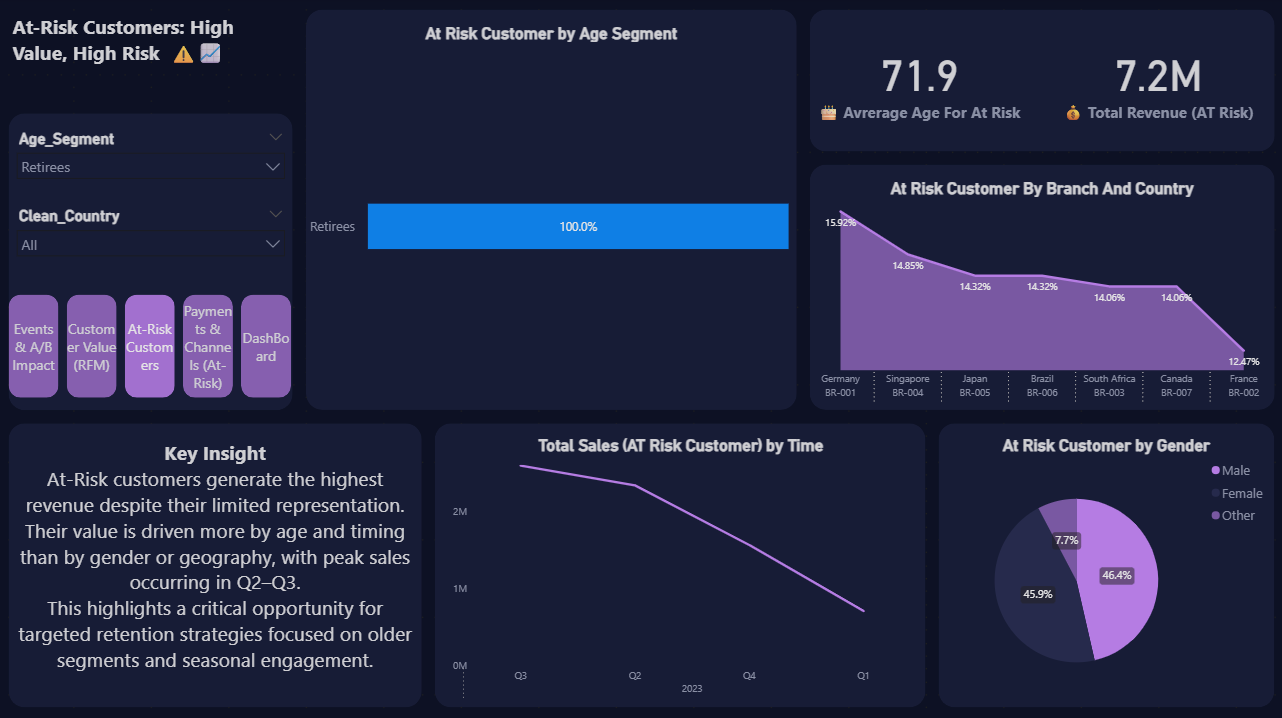

The page's visual inventory and layout, read from the dashboard file:
{"tool":"powerbi","page":{"name":"At-Risk Customers","canvas":[1600,900],"ordinal":2},"visuals":[{"type":"shape","box":[16,528,512,352],"z":0},{"type":"shape","box":[544,528,608,352],"z":1000},{"type":"shape","box":[1008,208,576,304],"z":2000},{"type":"shape","box":[384,16,608,496],"z":3000},{"type":"shape","box":[1168,528,416,352],"z":4000},{"type":"shape","box":[1008,16,576,176],"z":5000},{"type":"pieChart","fields":{"Category":["arpand_ecommerce_dataset.Gender"],"Y":["Measure Table.At Risk Customer"]},"box":[1168,544,416,336],"z":6000},{"type":"areaChart","title":"At Risk Customer By Branch And Country","fields":{"Category":["arpand_ecommerce_dataset.BranchID","arpand_ecommerce_dataset.Clean_Country"],"Y":["Divide(Measure Table.At Risk Customer, ScopedEval(Measure Table.At Risk Customer, []))"]},"box":[1008,224,576,288],"z":7000},{"type":"card","fields":{"Values":["Measure Table.Avg Age For At Risk"]},"box":[1008,16,272,176],"z":8000},{"type":"lineChart","title":"Total Sales (AT Risk Customer) by Time","fields":{"Y":["Measure Table.Sum Sales (AT Risk Customer)"],"Category":["Date Table.Year Hierarchy.Year","Date Table.Year Hierarchy.Quarter","Date Table.Year Hierarchy.Month","Date Table.Year Hierarchy.Day"]},"box":[560,544,576,336],"z":9000},{"type":"card","fields":{"Values":["Measure Table.Sum Sales (AT Risk Customer)"]},"box":[1296,16,288,176],"z":10000},{"type":"funnel","title":"At Risk Customer by Age Segment","fields":{"Category":["arpand_ecommerce_dataset.Age_Segment"],"Y":["Divide(Measure Table.At Risk Customer, ScopedEval(Measure Table.At Risk Customer, []))"]},"box":[384,32,608,480],"z":11000},{"type":"textbox","box":[16,544,512,336],"z":12000},{"type":"shape","box":[16,144,352,368],"z":13000},{"type":"slicer","fields":{"Values":["arpand_ecommerce_dataset.Age_Segment"]},"box":[16,160,352,80],"z":14000},{"type":"slicer","fields":{"Values":["arpand_ecommerce_dataset.Clean_Country"]},"box":[16,256,352,80],"z":15000},{"type":"pageNavigator","box":[16,368,352,128],"z":16000},{"type":"textbox","box":[16,16,352,96],"z":17000}]}

Visuals, with their boxes in screenshot pixels (x1, y1, x2, y2), scaled from the page's 1600x900 canvas onto the 1282x718 screenshot:
shape: box=[13, 421, 423, 702]
shape: box=[436, 421, 923, 702]
shape: box=[808, 166, 1269, 408]
shape: box=[308, 13, 795, 408]
shape: box=[936, 421, 1269, 702]
shape: box=[808, 13, 1269, 153]
pieChart - arpand_ecommerce_dataset.Gender x Measure Table.At Risk Customer: box=[936, 434, 1269, 702]
"At Risk Customer By Branch And Country" areaChart: box=[808, 179, 1269, 408]
card - Measure Table.Avg Age For At Risk: box=[808, 13, 1026, 153]
"Total Sales (AT Risk Customer) by Time" lineChart: box=[449, 434, 910, 702]
card - Measure Table.Sum Sales (AT Risk Customer): box=[1038, 13, 1269, 153]
"At Risk Customer by Age Segment" funnel: box=[308, 26, 795, 408]
textbox: box=[13, 434, 423, 702]
shape: box=[13, 115, 295, 408]
slicer - arpand_ecommerce_dataset.Age_Segment: box=[13, 128, 295, 191]
slicer - arpand_ecommerce_dataset.Clean_Country: box=[13, 204, 295, 268]
pageNavigator: box=[13, 294, 295, 396]
textbox: box=[13, 13, 295, 89]
